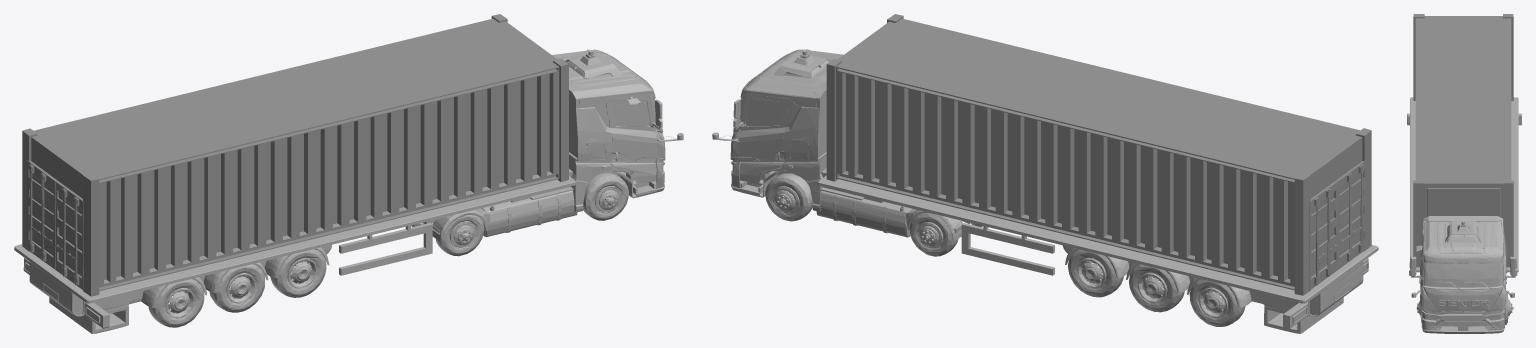
File: wtruck.glb
3 renders of one model, left to right at view 1: azimuth 30°, elevation 25°; view 2: azimuth 150°, elevation 25°; view 3: azimuth 270°, elevation 25°, orthographic. The views are drawn at different scales.
Visible parts, largest first — view 1: world; view 2: world; view 3: world.
Boxes of the visible parts, box(x1,y1,x2,y2) form: world: box(14, 14, 683, 333); world: box(712, 14, 1378, 333); world: box(1407, 14, 1521, 333).
Bounding box in the file's own units: 9.16 × 2.52 × 2.1.
Materials: 1 (1 with a texture image).
